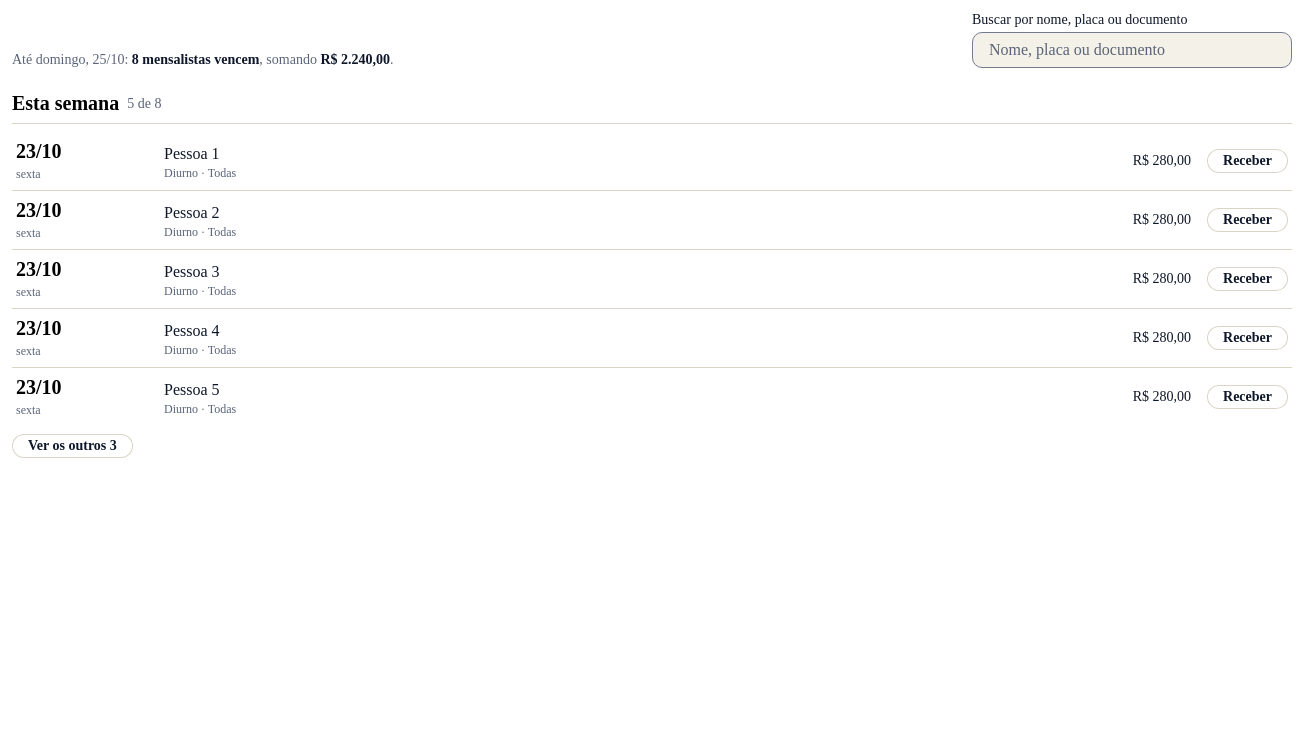
AgendaView: busca › mostra todos os resultados, sem o corte de cinco
Expected: the element "Esta semana" is shown, [12, 92, 1292, 458]
Expected: the number of list items is 5, [12, 132, 1292, 191]; [12, 191, 1292, 250]; [12, 250, 1292, 309]; [12, 309, 1292, 368]; [12, 368, 1292, 426]
Type "pessoa" into the field labelled "Buscar por nome, placa ou documento".
click(1132, 50); type("pessoa")  # box [972, 32, 1292, 68]
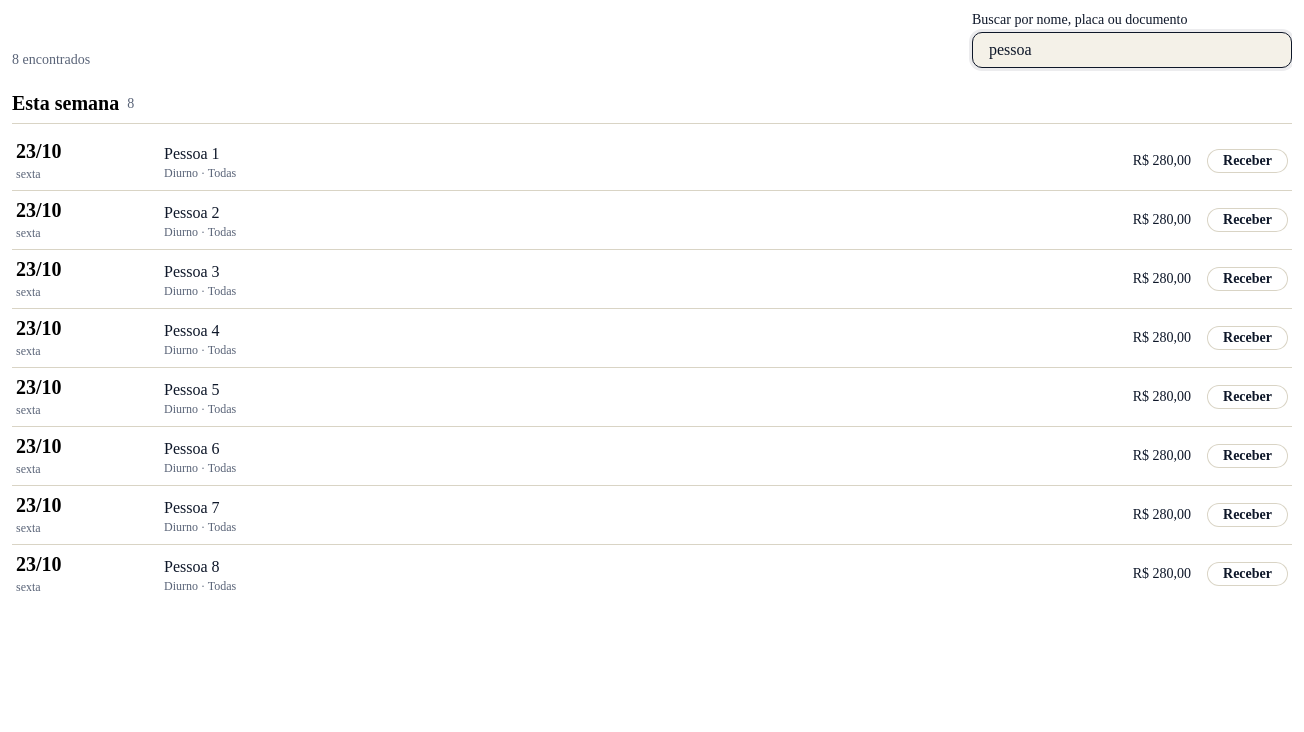
Expected: the number of list items is 8
Expected: the button "Ver os outros" is gone
